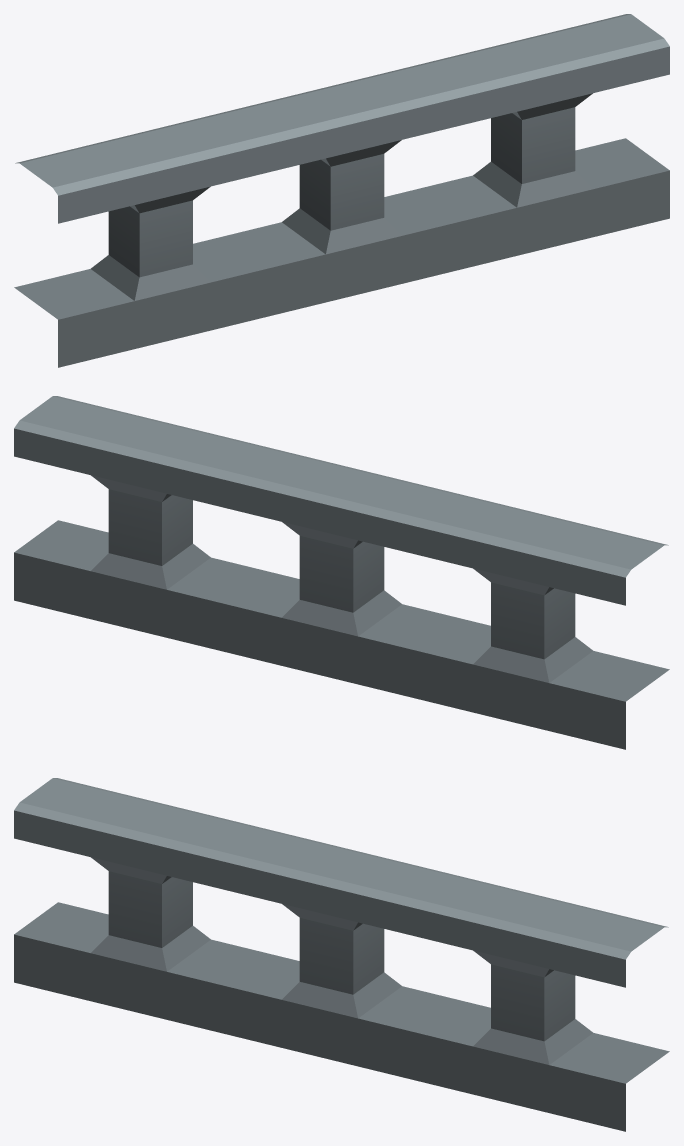
File: dungeon-barrier.glb
The picture shows the model from 3 angles, top to bottom: view 1: azimuth 30°, elevation 25°; view 2: azimuth 150°, elevation 25°; view 3: azimuth 330°, elevation 25°; orthographic projection.
Parts seen in each view (by area): view 1: dungeon-barrier; view 2: dungeon-barrier; view 3: dungeon-barrier.
Boxes of the visible parts, box(x1,y1,x2,y2) form: dungeon-barrier: box(14, 14, 669, 367); dungeon-barrier: box(14, 396, 669, 749); dungeon-barrier: box(14, 778, 669, 1131).
Size of the model in its own units: 3 by 0.8252 by 0.375.
1 material, 1 textured.
